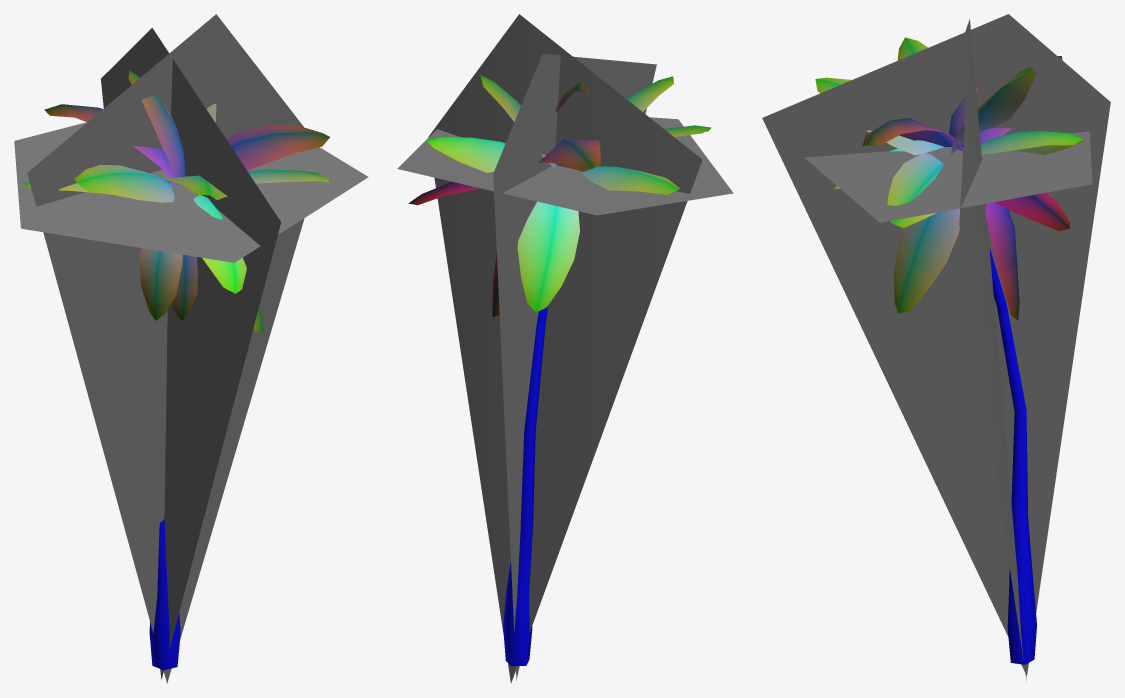
The model's file is PalmB_02.fbx.
The picture shows the model from 3 angles, left to right: view 1: azimuth 30°, elevation 25°; view 2: azimuth 150°, elevation 25°; view 3: azimuth 270°, elevation 25°; orthographic projection. The views are drawn at different scales.
Visible parts, largest first — view 1: PalmB_02_billboard, PalmB_02; view 2: PalmB_02_billboard, PalmB_02; view 3: PalmB_02_billboard, PalmB_02.
Boxes of the visible parts, box(x1,y1,x2,y2) form: PalmB_02_billboard: box(14, 14, 368, 683); PalmB_02: box(24, 70, 329, 670); PalmB_02_billboard: box(397, 14, 733, 683); PalmB_02: box(408, 75, 711, 666); PalmB_02_billboard: box(762, 14, 1110, 682); PalmB_02: box(815, 37, 1083, 664).
Size of the model in its own units: 276 by 568 by 266.
